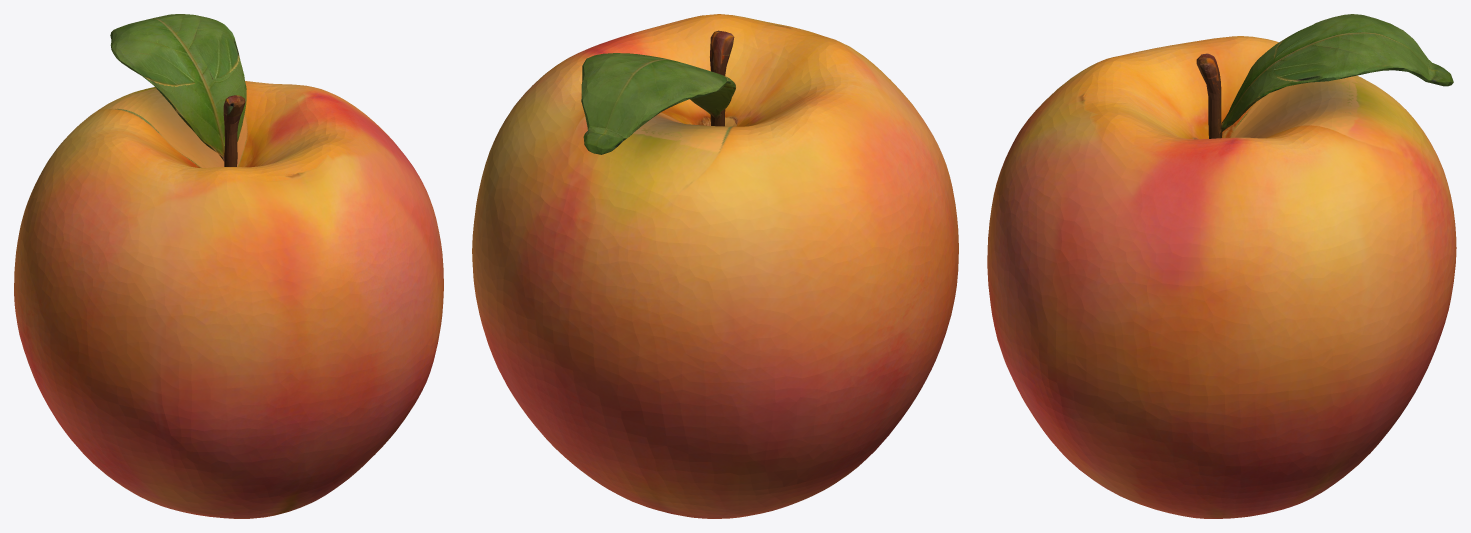
The model's file is peach.glb.
The picture shows the model from 3 angles, left to right: view 1: azimuth 30°, elevation 25°; view 2: azimuth 150°, elevation 25°; view 3: azimuth 270°, elevation 25°; orthographic projection. The views are drawn at different scales.
Visible parts, largest first — view 1: temp; view 2: temp; view 3: temp.
Boxes of the visible parts, x1=… form: temp: x1=14, y1=14, x2=443, y2=518; temp: x1=472, y1=14, x2=958, y2=518; temp: x1=987, y1=14, x2=1456, y2=518.
Bounding box in the file's own units: 1.86 × 1.99 × 1.86.
1 material, 1 textured.
